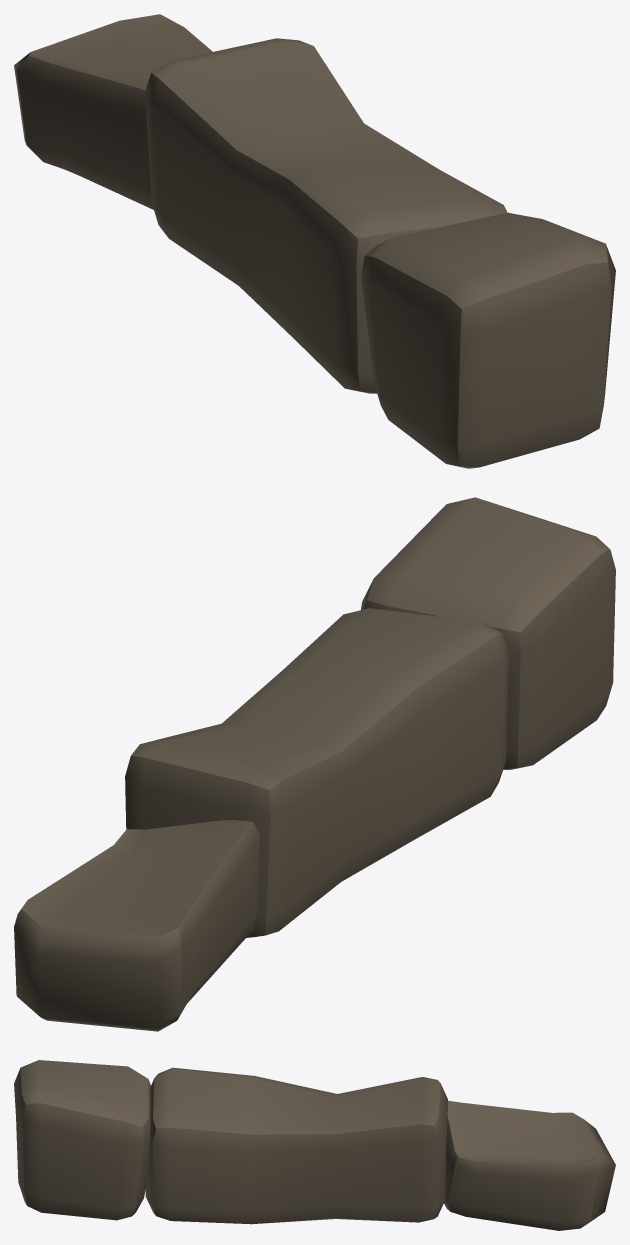
Rendered from Destroyed Wall 1.fbx.
3 views of the same model, one above another, from view 1: azimuth 30°, elevation 25°; view 2: azimuth 150°, elevation 25°; view 3: azimuth 270°, elevation 25° (orthographic). The views are drawn at different scales.
Visible parts, largest first — view 1: polySurface1585; view 2: polySurface1585; view 3: polySurface1585.
Boxes of the visible parts, <box> form: polySurface1585: <box>14,14,615,468</box>; polySurface1585: <box>14,497,615,1031</box>; polySurface1585: <box>14,1060,615,1230</box>.
Bounding box in the file's own units: 2.41 × 2.78 × 10.66.
